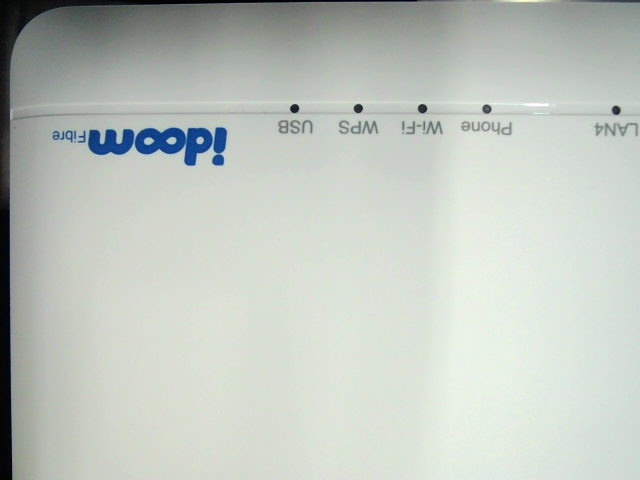BB_idoom: (43, 116, 231, 168)
